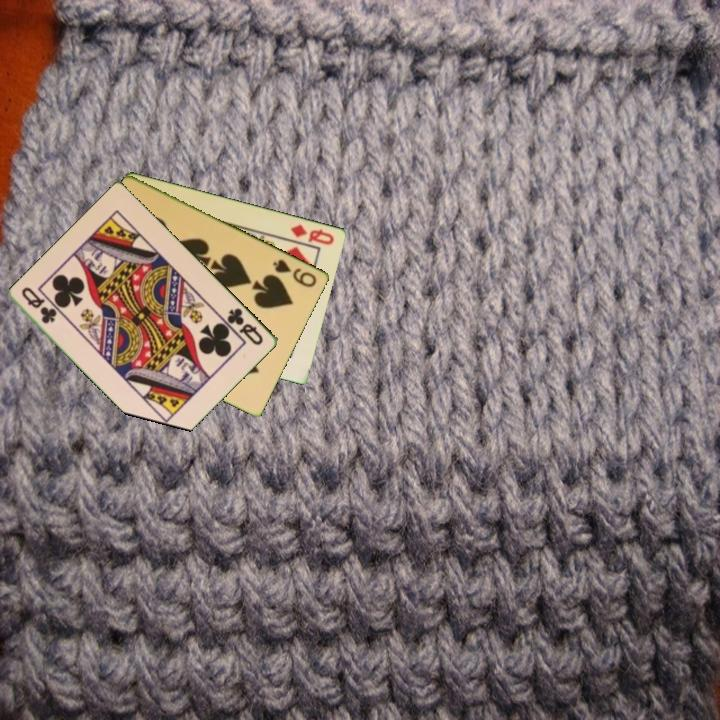9s: (269, 256, 320, 290)
Qc: (224, 304, 266, 348), (19, 283, 60, 327)
Qd: (287, 220, 337, 248)
